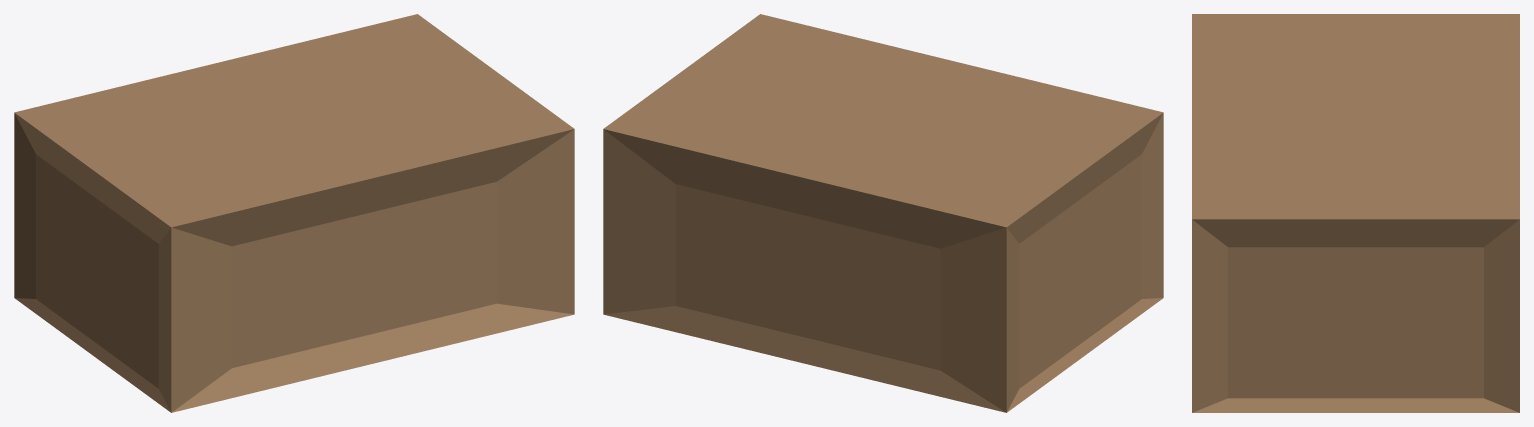
Rendered from chestgovde.fbx.
3 views of the same model, side by side, from view 1: azimuth 30°, elevation 25°; view 2: azimuth 150°, elevation 25°; view 3: azimuth 270°, elevation 25° (orthographic). The views are drawn at different scales.
Visible parts, largest first — view 1: Cube.002; view 2: Cube.002; view 3: Cube.002.
Boxes of the visible parts, box(x1,y1,x2,y2) form: Cube.002: box(14, 14, 574, 412); Cube.002: box(603, 14, 1163, 412); Cube.002: box(1192, 14, 1519, 412).
Size of the model in its own units: 235 by 103 by 158.
